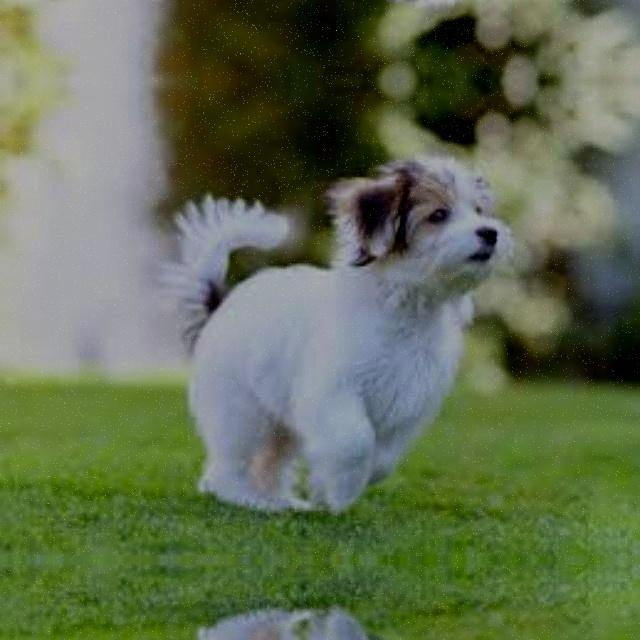dog: (131, 153, 511, 507), (131, 611, 511, 640), (131, 0, 511, 7)
